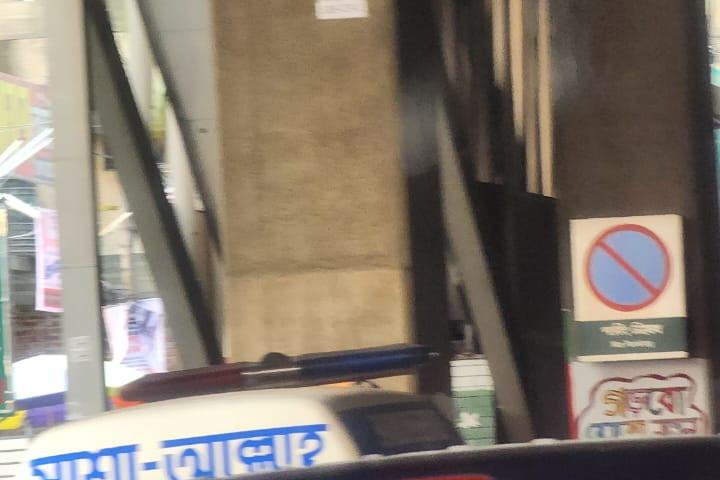No Parking: (569, 212, 690, 362)
